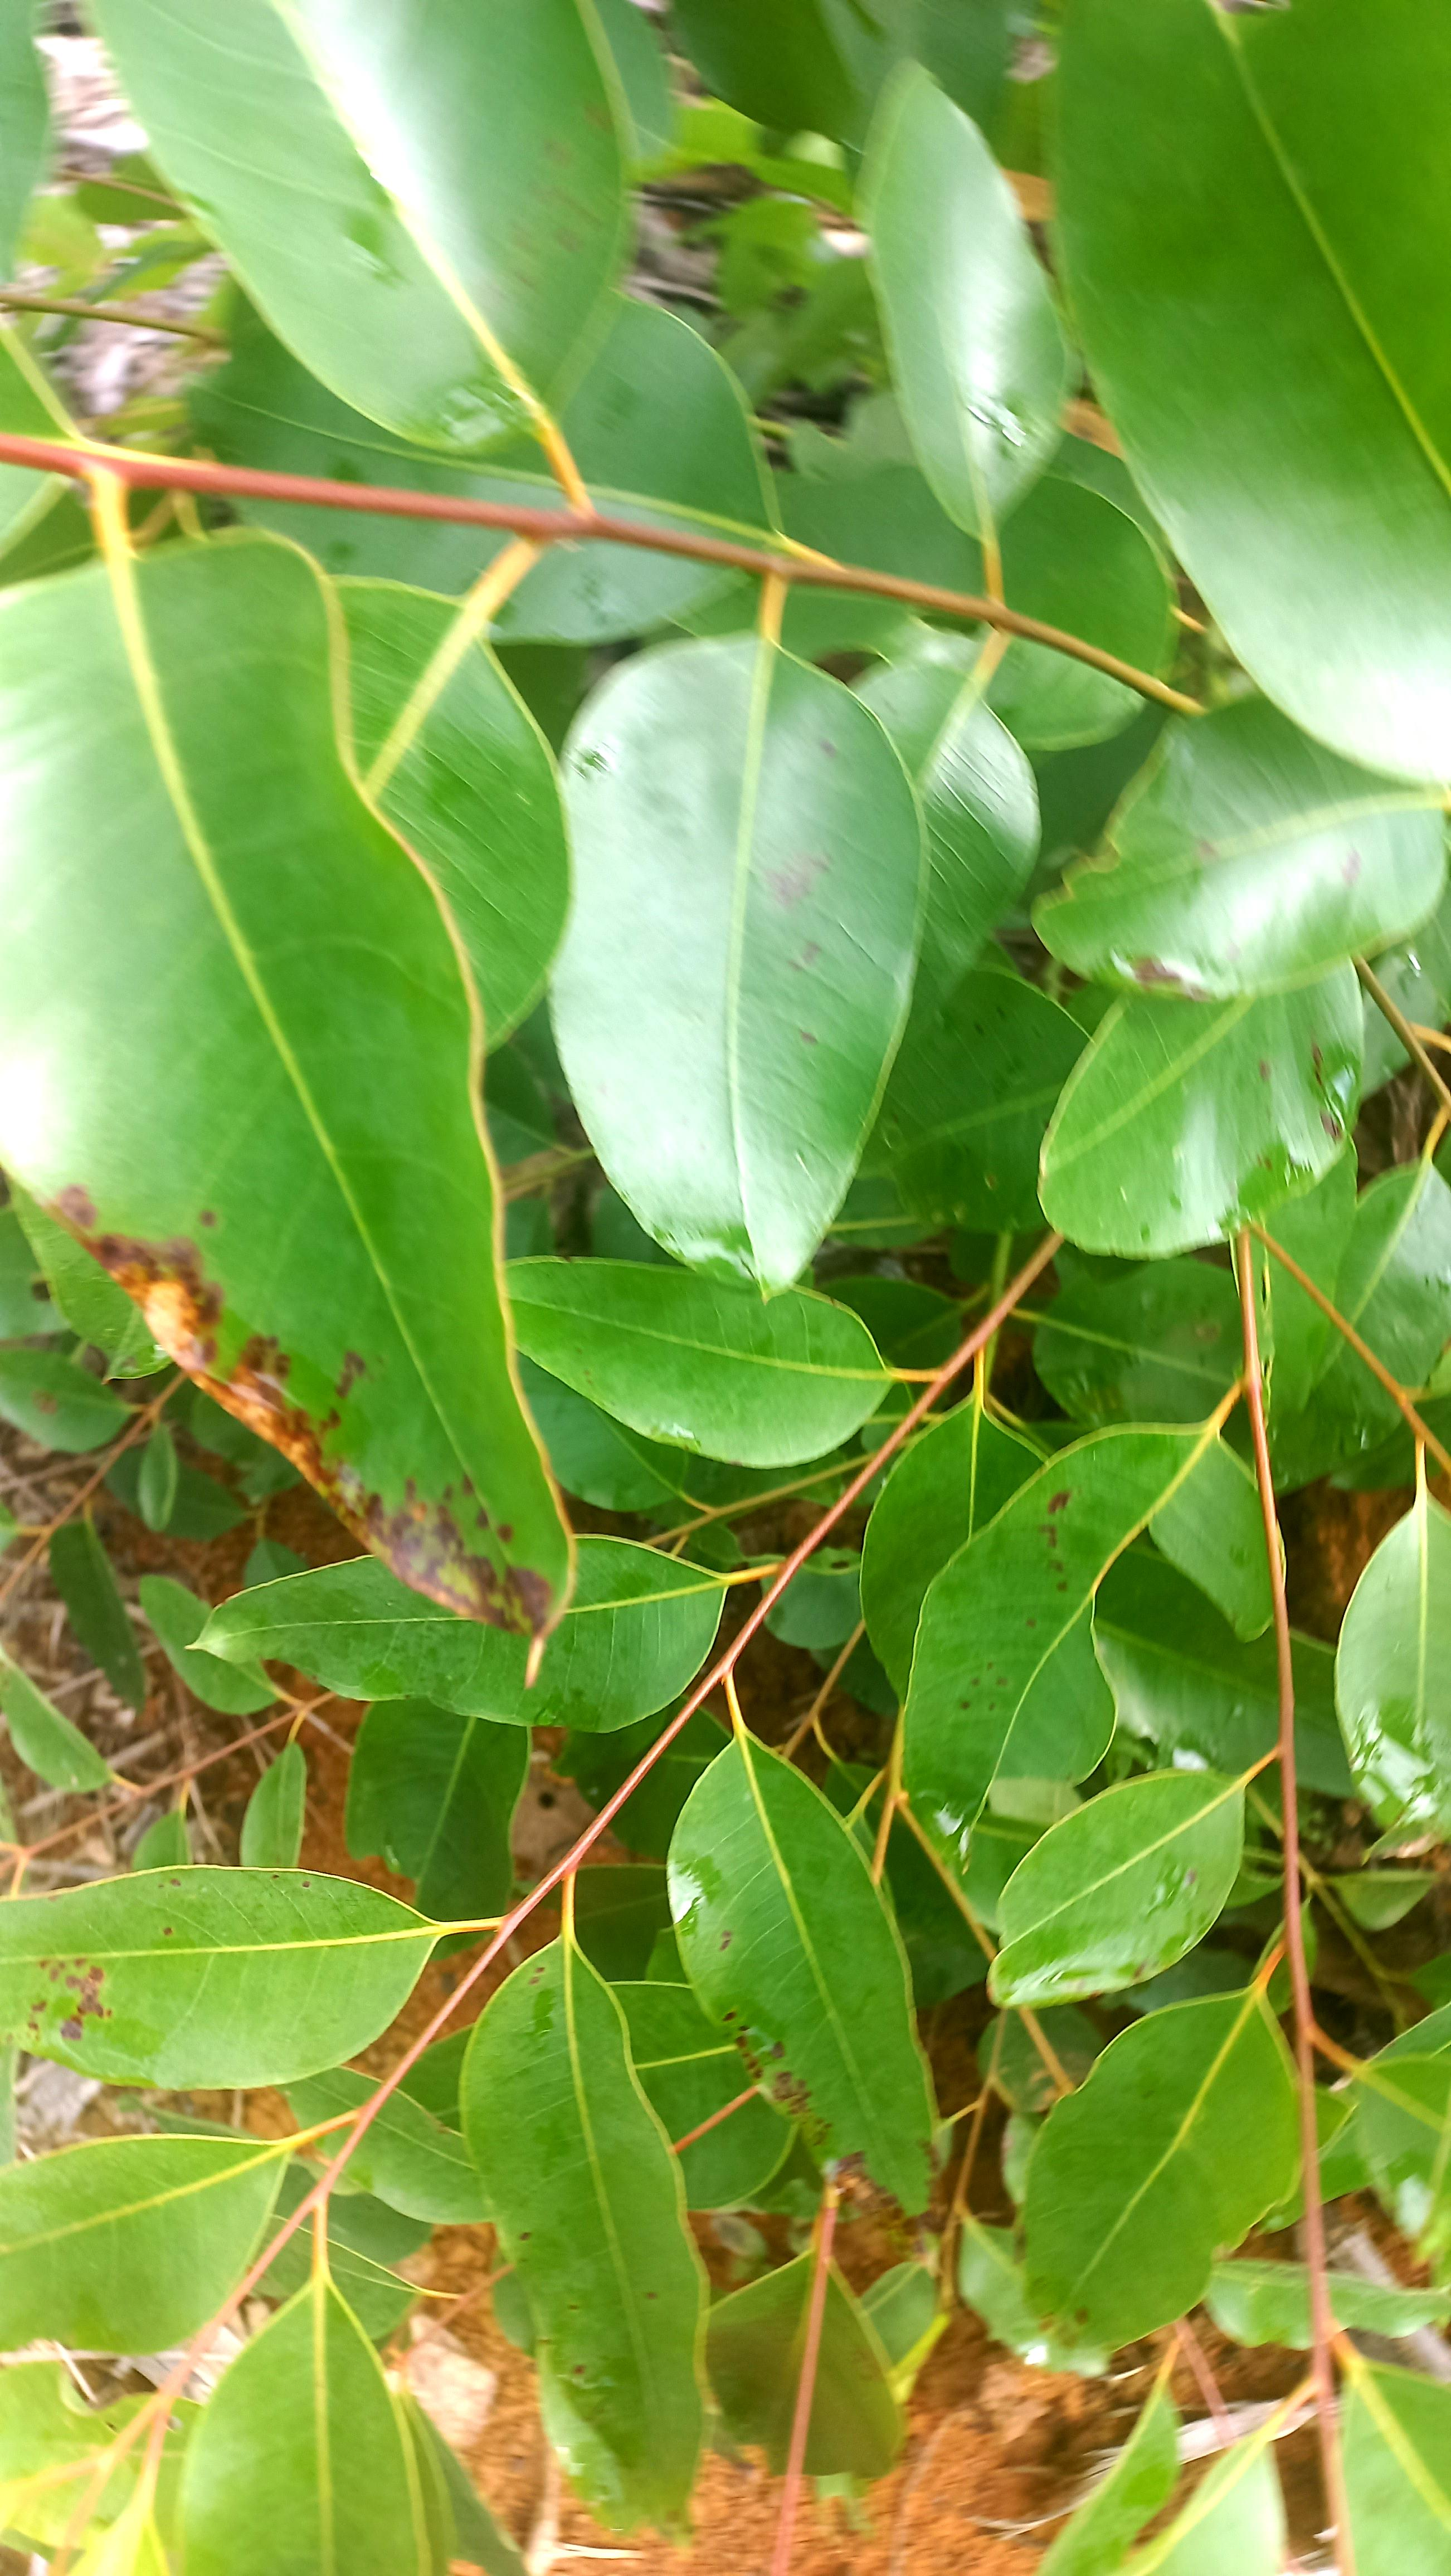Xanthomonas: (71, 1219, 593, 1679)
